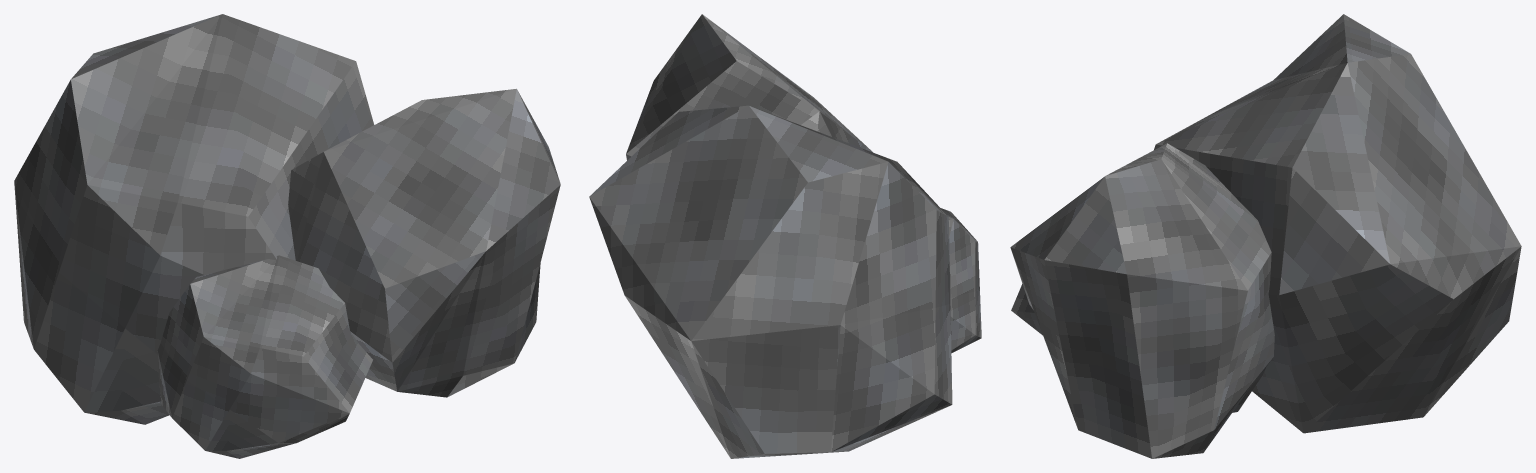
The model's file is stone.gltf.
3 renders of one model, left to right at view 1: azimuth 30°, elevation 25°; view 2: azimuth 150°, elevation 25°; view 3: azimuth 270°, elevation 25°, orthographic. The views are drawn at different scales.
Visible parts, largest first — view 1: cuboid (×3); view 2: cuboid (×3); view 3: cuboid (×3).
Boxes of the visible parts, <box> form: cuboid (×3): <box>14,14,560,458</box>; cuboid (×3): <box>589,14,981,458</box>; cuboid (×3): <box>1010,14,1521,458</box>.
Bounding box in the file's own units: 0.8833 × 0.7648 × 0.9413.
1 material, 1 textured.
